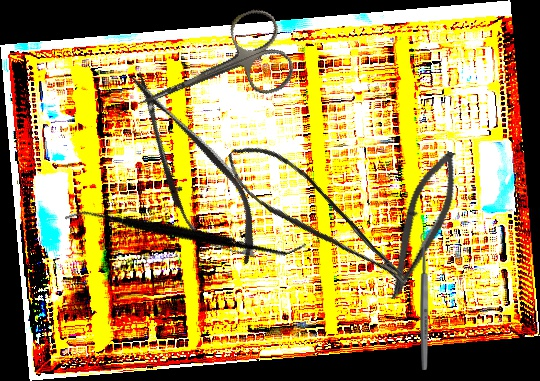Iris Scissors: (120, 3, 301, 142)
Micro Scissor: (105, 57, 278, 281), (217, 125, 414, 315), (378, 144, 468, 308)
Spatula Surgical: (64, 136, 307, 327)
Surgical Spoon: (420, 233, 429, 370)
